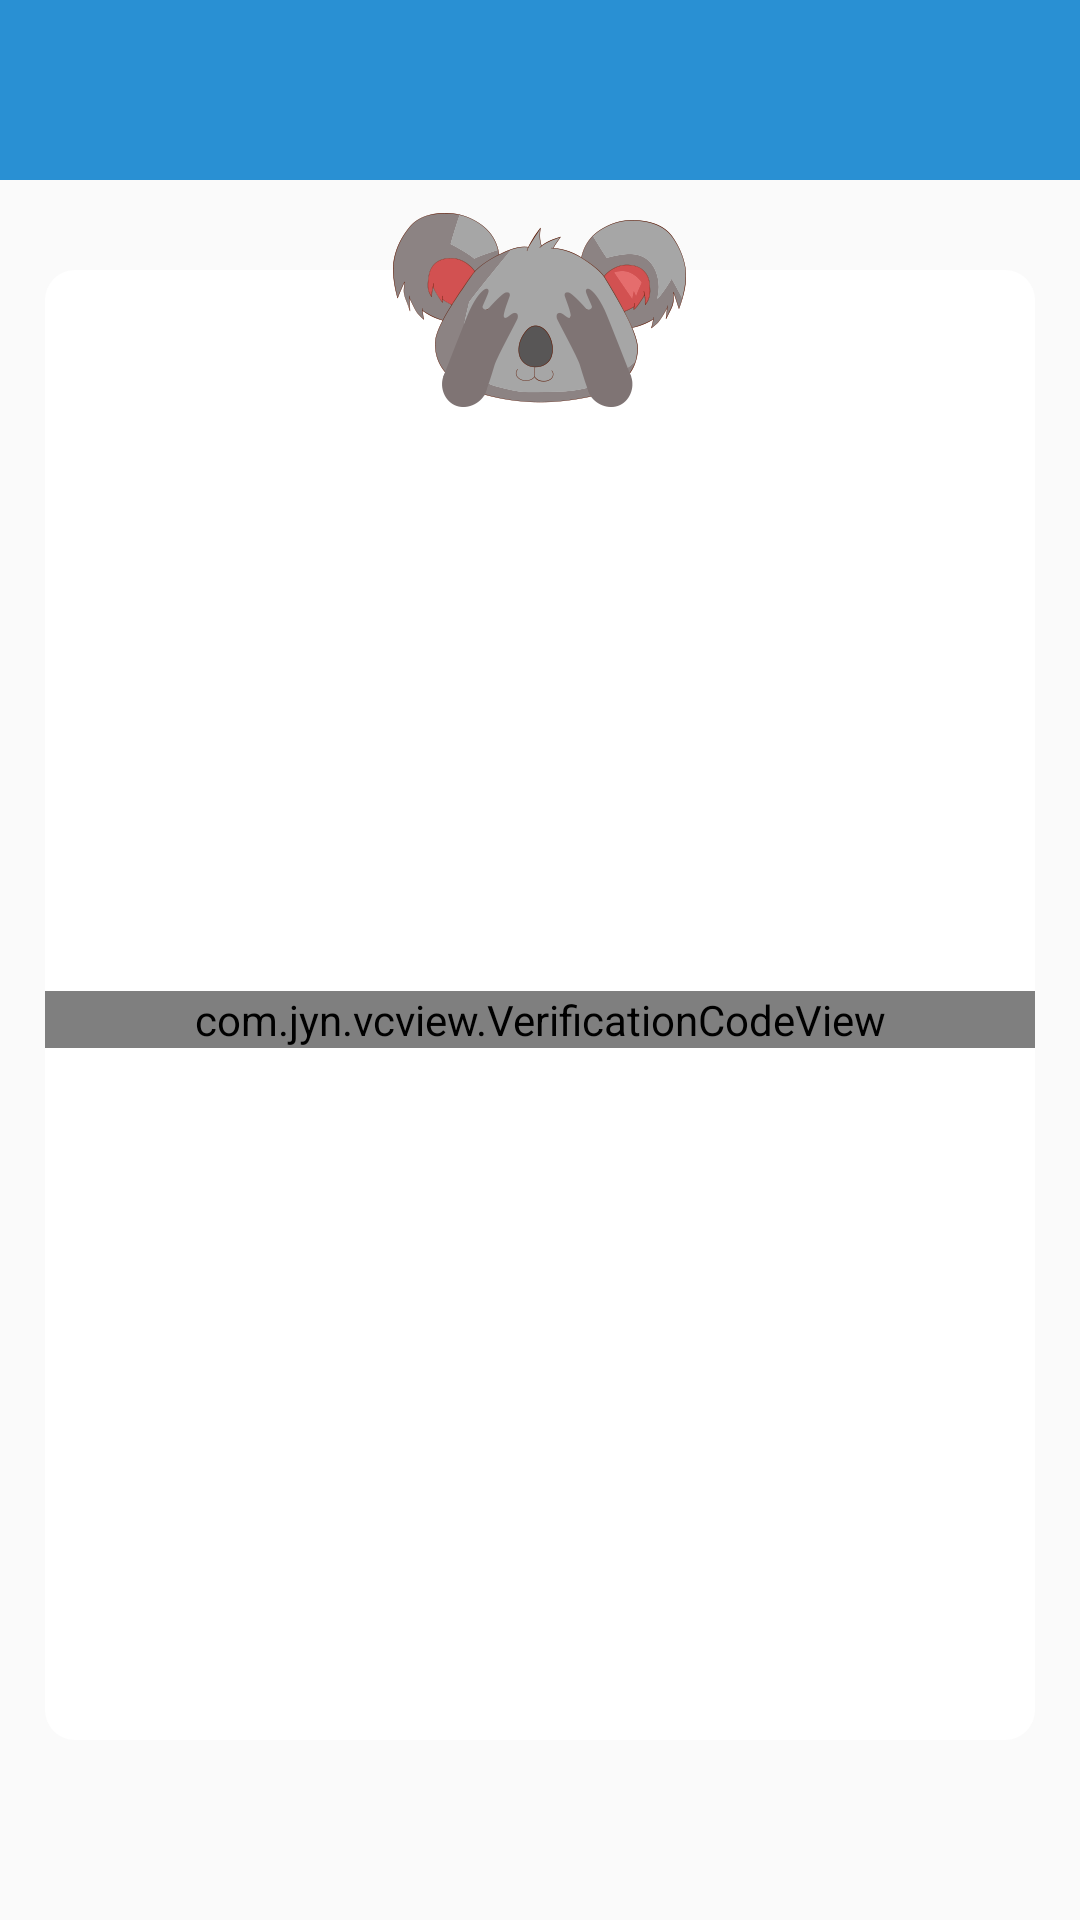

Icon click points for this 1080×1920 phone screenshot, format (x=x, y=y):
mascot close: (x=539, y=310)
